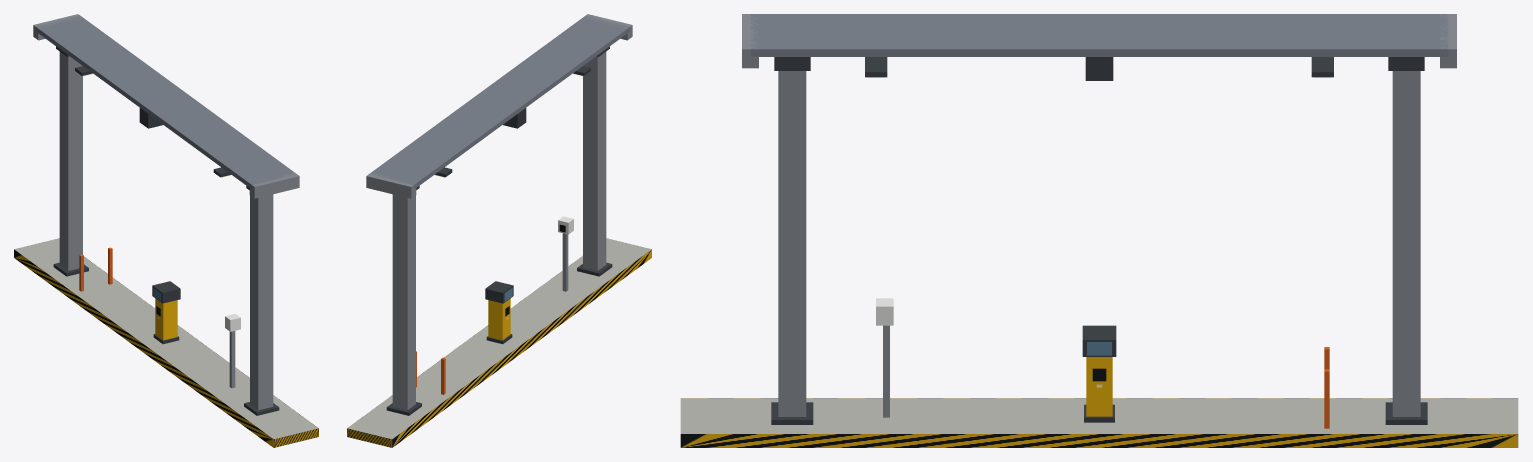
Rendered from gate-island.glb.
The picture shows the model from 3 angles, left to right: view 1: azimuth 30°, elevation 25°; view 2: azimuth 150°, elevation 25°; view 3: azimuth 270°, elevation 25°; orthographic projection. The views are drawn at different scales.
Parts seen in each view (by area): view 1: canopy, island, kiosk, camera_post; view 2: canopy, island, kiosk, camera_post; view 3: canopy, island, kiosk, camera_post.
Part boxes in pixels (box(x1,y1,x2,y2)): canopy: box(33, 14, 299, 415); island: box(14, 238, 318, 447); kiosk: box(152, 281, 180, 344); camera_post: box(79, 247, 240, 388); canopy: box(366, 14, 632, 415); island: box(347, 238, 651, 447); kiosk: box(485, 281, 513, 344); camera_post: box(416, 216, 573, 394); canopy: box(742, 14, 1456, 424); island: box(680, 398, 1518, 447); kiosk: box(1082, 325, 1116, 422); camera_post: box(876, 298, 1329, 428).
Bounding box in the file's own units: 1.21 × 6.3 × 12.01.
Materials: 1 (1 with a texture image).
